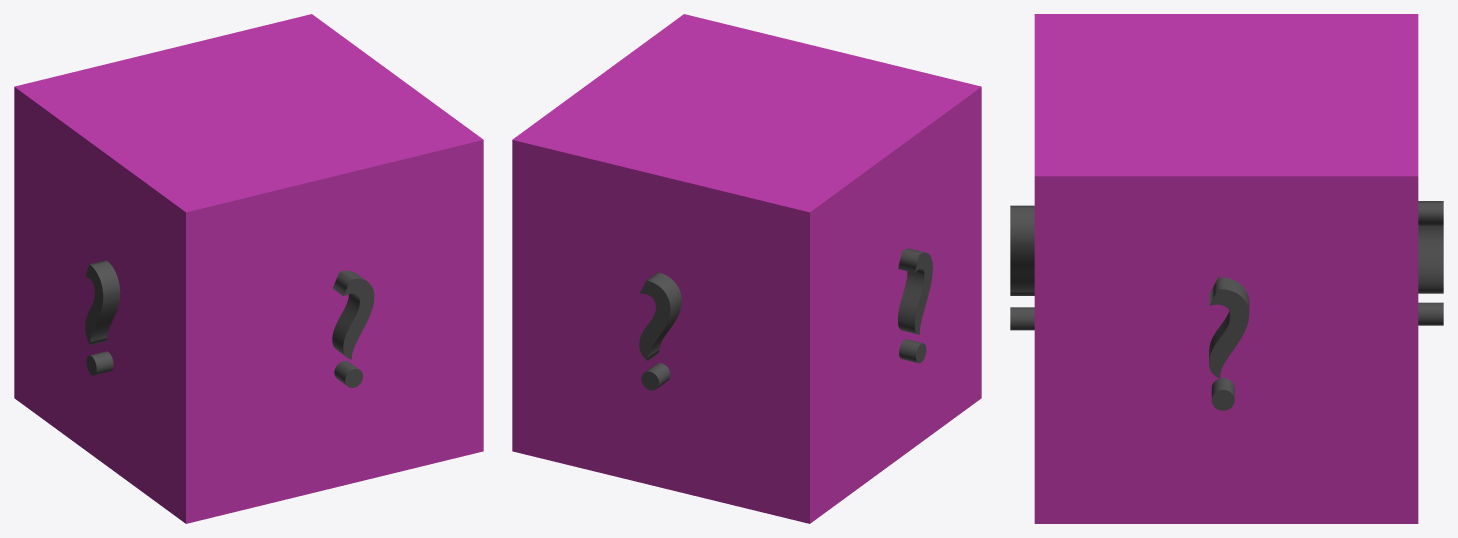
File: mythic.glb
The picture shows the model from 3 angles, left to right: view 1: azimuth 30°, elevation 25°; view 2: azimuth 150°, elevation 25°; view 3: azimuth 270°, elevation 25°; orthographic projection. The views are drawn at different scales.
Parts seen in each view (by area): view 1: Cube, Text.003, Text.002; view 2: Cube, Text.001, Text.002; view 3: Cube, Text, Text.001, Text.003.
Part boxes in pixels (bbox=[...]): Cube: bbox=[14, 14, 483, 523]; Text.003: bbox=[332, 270, 374, 387]; Text.002: bbox=[85, 260, 120, 375]; Cube: bbox=[512, 14, 981, 523]; Text.001: bbox=[639, 272, 681, 390]; Text.002: bbox=[898, 248, 932, 363]; Cube: bbox=[1034, 14, 1418, 523]; Text: bbox=[1209, 277, 1249, 410]; Text.001: bbox=[1418, 201, 1443, 325]; Text.003: bbox=[1010, 205, 1034, 330].
Size of the model in its own units: 2.26 by 2 by 2.26.
